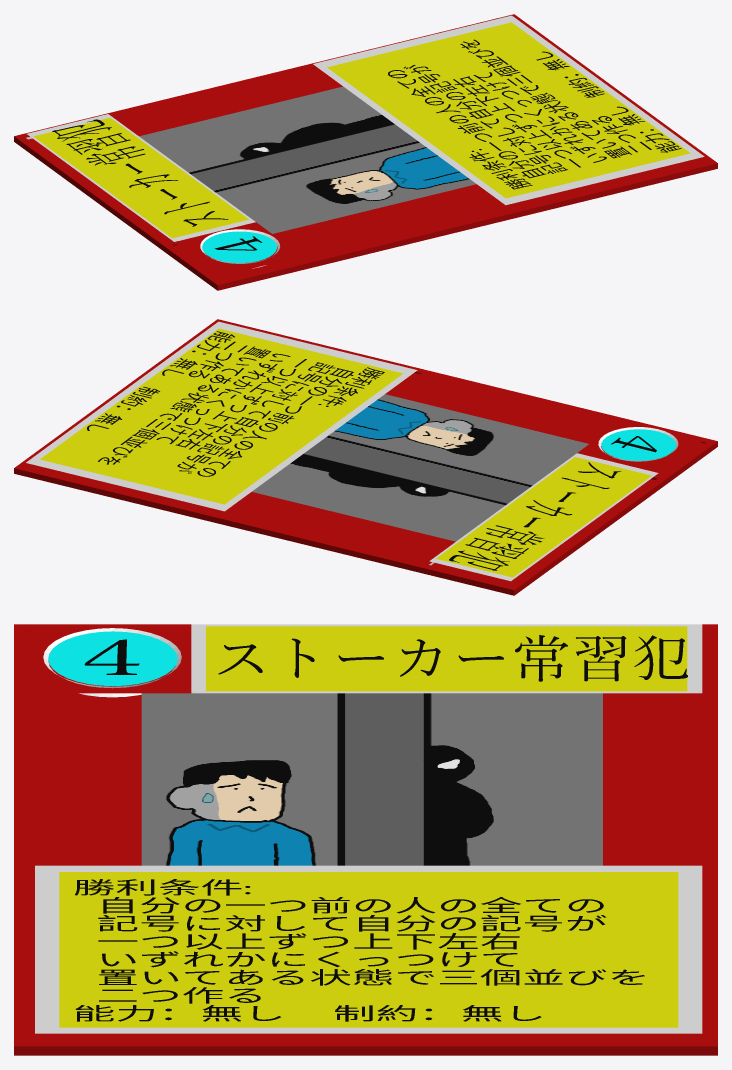
The model's file is ストーカー常習犯赤.fbx.
3 views of the same model, one above another, from view 1: azimuth 30°, elevation 25°; view 2: azimuth 150°, elevation 25°; view 3: azimuth 270°, elevation 25° (orthographic). The views are drawn at different scales.
Parts seen in each view (by area): view 1: 説明欄, 平面.001, カード本体.001, 名前欄, 説明文, 円, 平面, 名前; view 2: 説明欄, 平面.001, カード本体.001, 名前欄, 説明文, 円, 平面, 名前; view 3: 説明欄, 平面.001, カード本体.001, 名前欄, 説明文, 平面, 円, 名前, コスト蘭.
Part boxes in pixels (x1,y1,x2,y2): 説明欄: [313, 15, 704, 205]; 平面.001: [139, 86, 476, 233]; カード本体.001: [14, 14, 717, 290]; 名前欄: [27, 114, 255, 241]; 説明文: [388, 39, 681, 189]; 円: [202, 231, 276, 262]; 平面: [174, 222, 302, 275]; 名前: [52, 119, 228, 226]; 説明欄: [26, 321, 417, 511]; 平面.001: [252, 394, 588, 541]; カード本体.001: [14, 319, 717, 595]; 名前欄: [429, 453, 658, 581]; 説明文: [87, 331, 384, 476]; 円: [601, 429, 675, 460]; 平面: [577, 419, 704, 472]; 名前: [449, 462, 621, 570]; 説明欄: [35, 865, 702, 1033]; 平面.001: [141, 693, 602, 865]; カード本体.001: [14, 624, 717, 1055]; 名前欄: [191, 624, 702, 693]; 説明文: [75, 879, 644, 1021]; 平面: [30, 624, 191, 693]; 円: [48, 631, 177, 686]; 名前: [218, 635, 687, 681]; コスト蘭: [43, 628, 181, 697].
Size of the model in its own units: 281 by 6.07 by 198.
